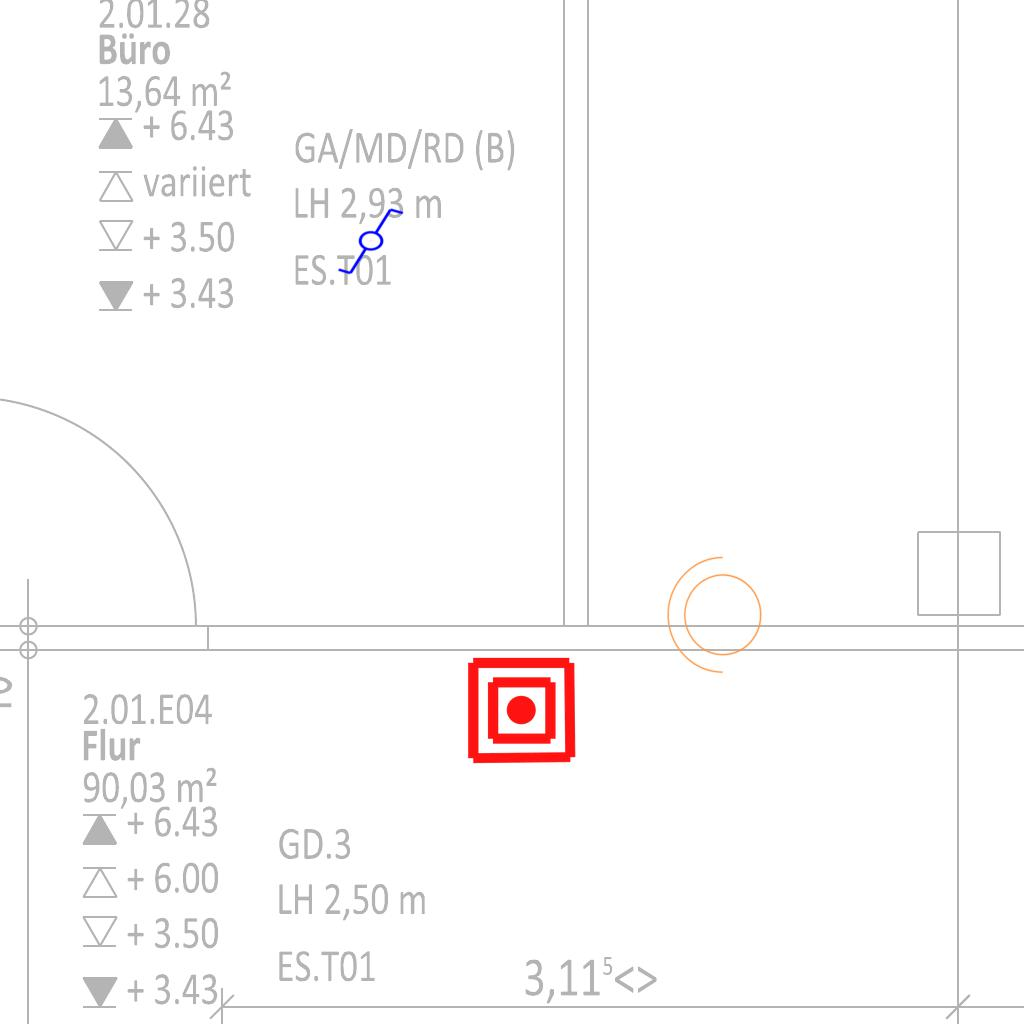NAM-Nichtautomatischer_Melder: (465, 654, 578, 767)
Scheinwerfer_fuer_Alarmbeleuchtung: (662, 552, 774, 684)
Wechselschalter: (336, 206, 414, 278)
